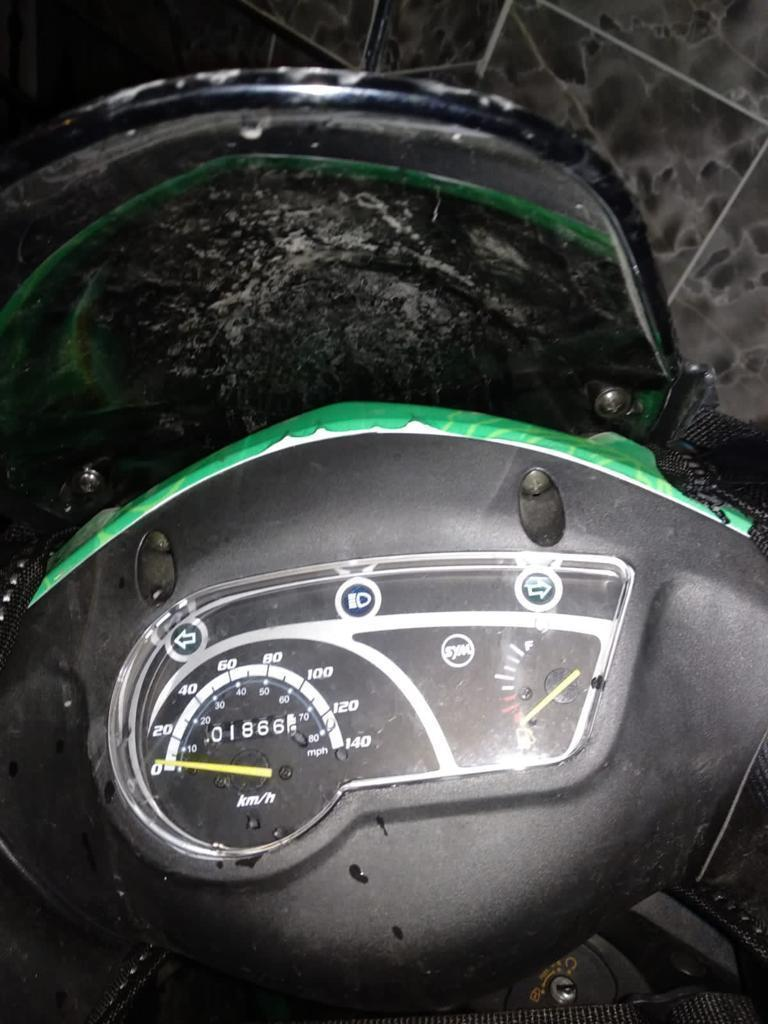0: (210, 725, 222, 743), (205, 715, 210, 724)
1: (226, 720, 237, 742)
2: (201, 716, 205, 725)
6: (257, 718, 270, 736), (272, 717, 284, 734)
8: (240, 721, 254, 739), (288, 722, 298, 738)
odometer: (200, 712, 300, 746)
